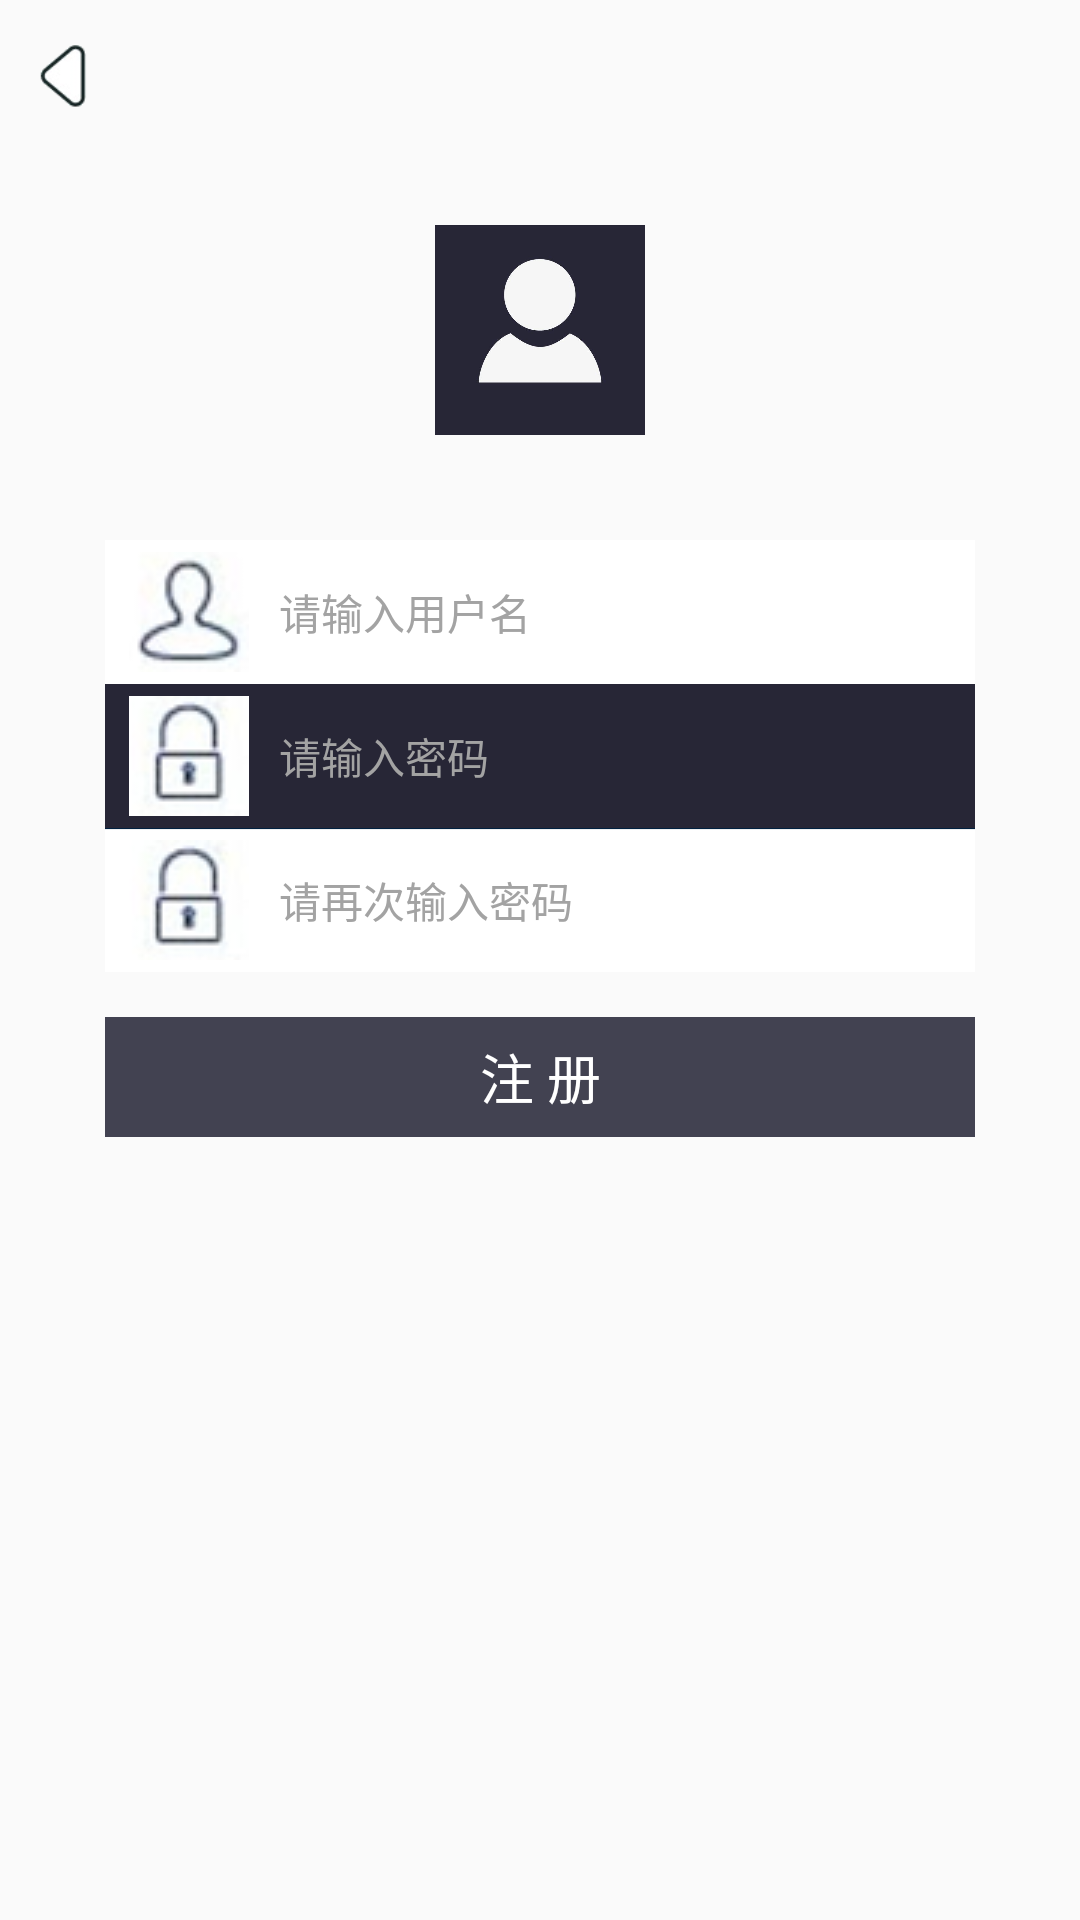

Locate icon controls on the screen. Image size 1080 × 1920, boxes as (x1, y1, x2, y2).
back: (40, 45, 86, 107)
